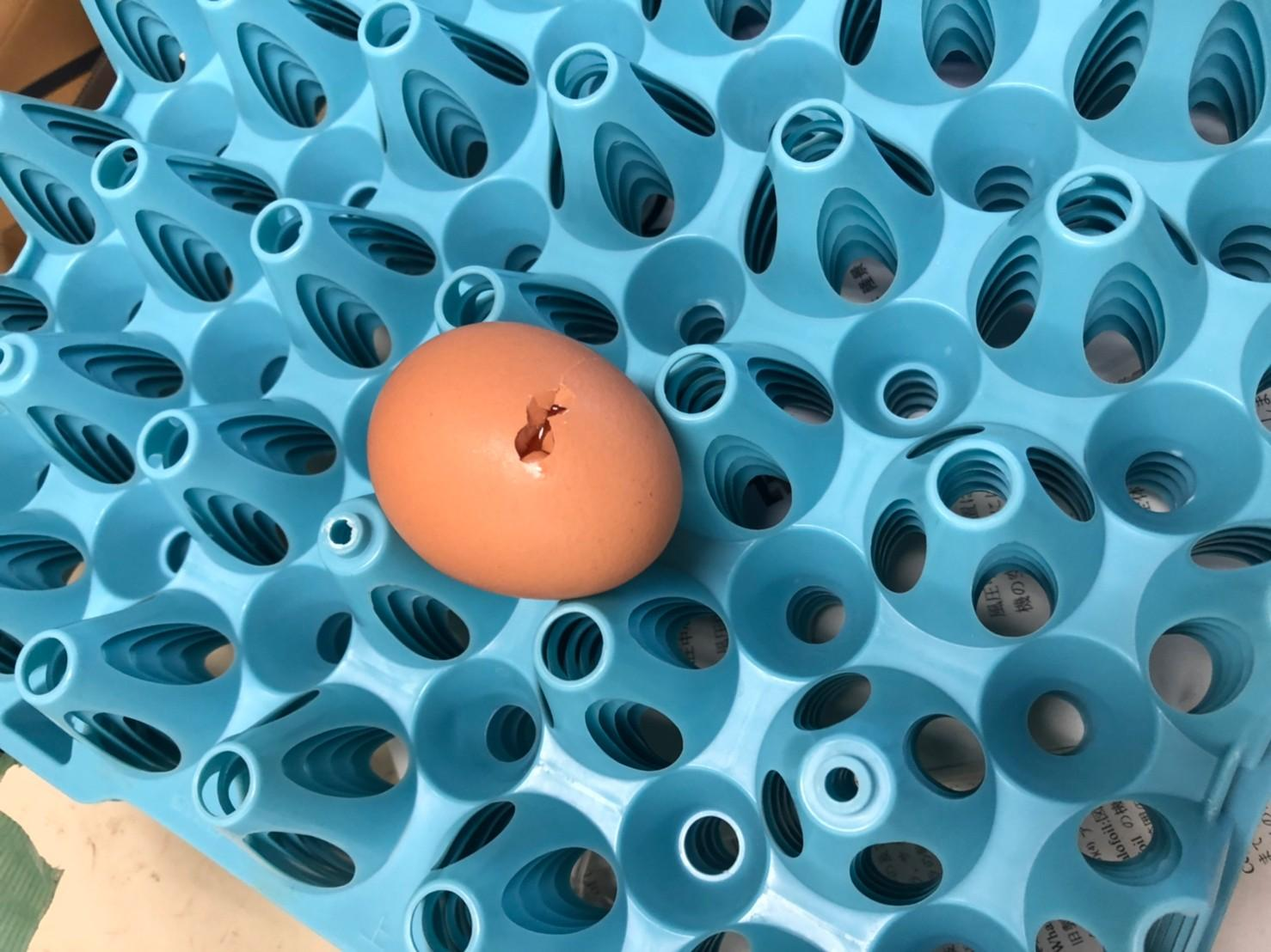egg: (366, 320, 689, 604)
